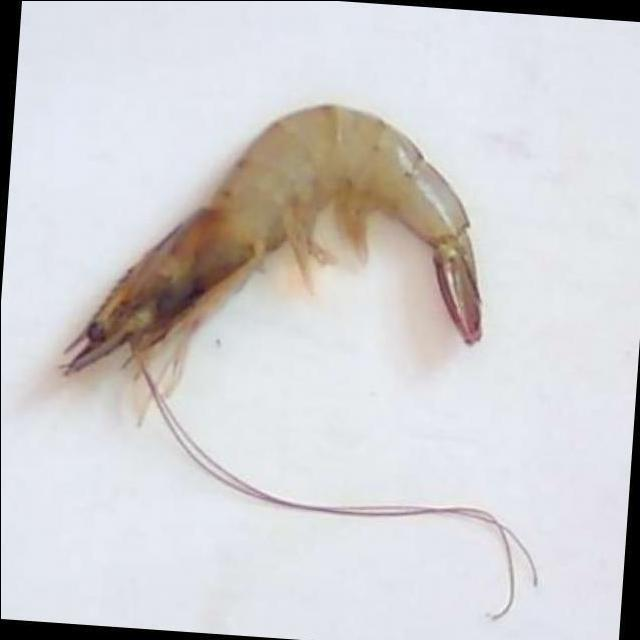shrimp: (63, 104, 481, 373)
